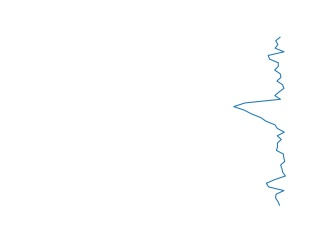interdistributaryEstuary: (228, 37, 292, 208)
